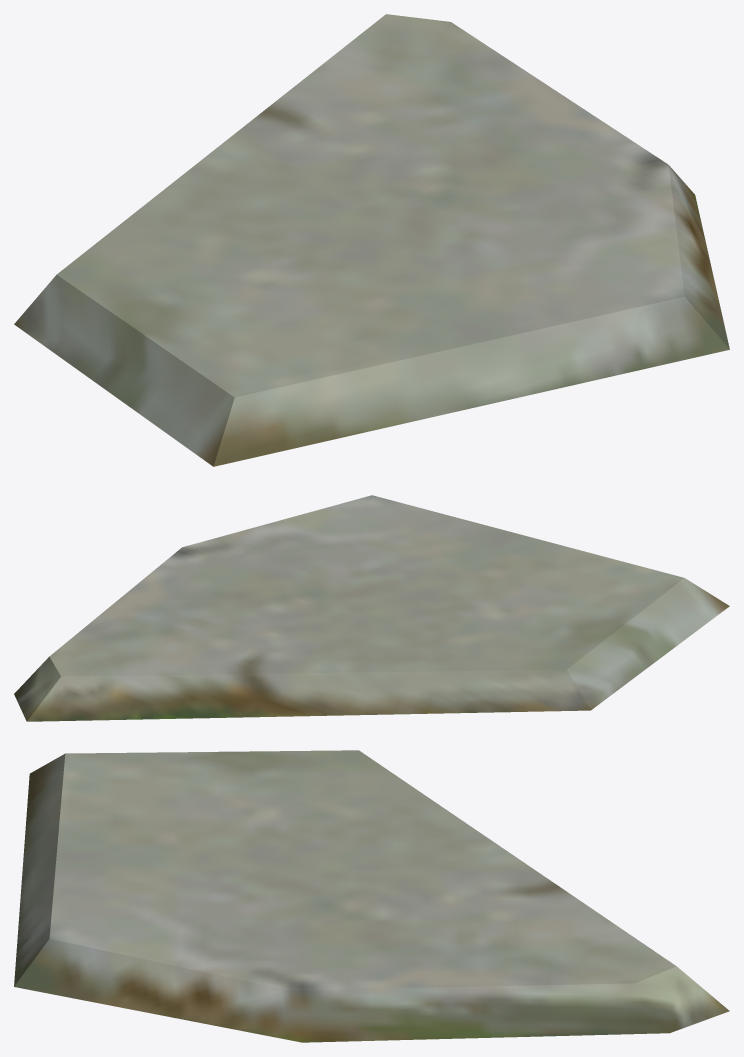
File: 1001_Item_shidimian_3.FBX
3 renders of one model, top to bottom at view 1: azimuth 30°, elevation 25°; view 2: azimuth 150°, elevation 25°; view 3: azimuth 270°, elevation 25°, orthographic. The views are drawn at different scales.
Parts seen in each view (by area): view 1: 1001_Item_shidimian_3; view 2: 1001_Item_shidimian_3; view 3: 1001_Item_shidimian_3.
Part boxes in pixels (x1,y1,x2,y2): 1001_Item_shidimian_3: (14,14,729,466); 1001_Item_shidimian_3: (14,495,729,721); 1001_Item_shidimian_3: (14,750,729,1042).
Bounding box in the file's own units: 107 × 119 × 6.96.
Materials: 1 (1 with a texture image).
